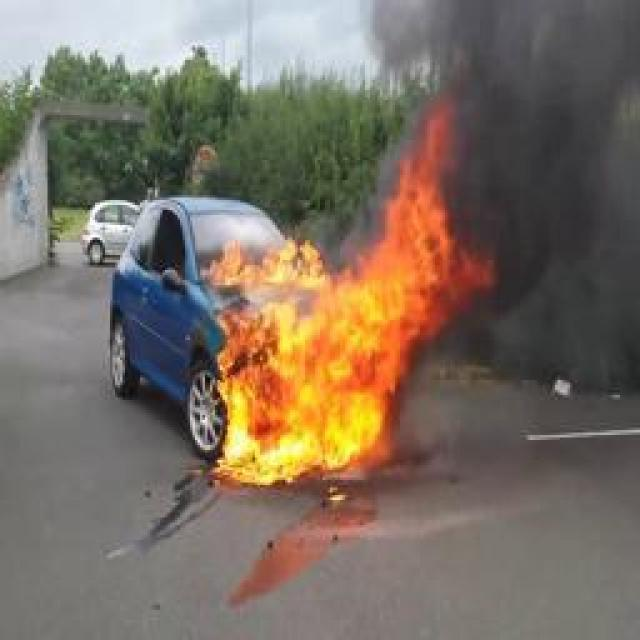Fire: (204, 92, 492, 482)
